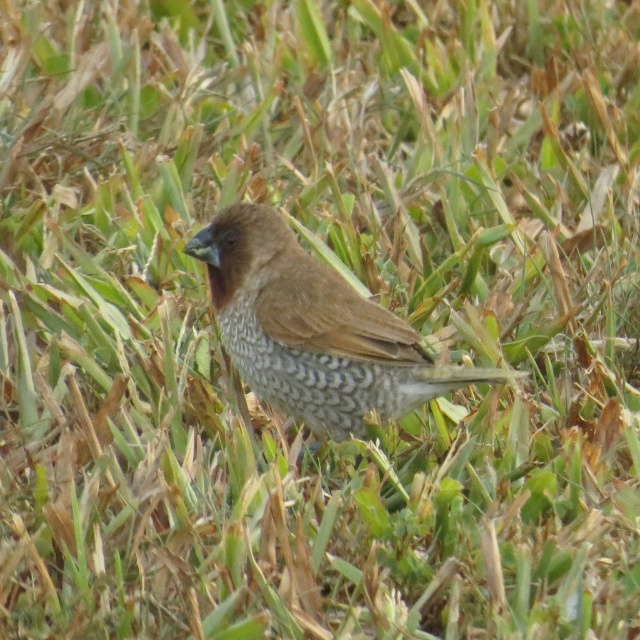Sparrow: (180, 202, 533, 477)
